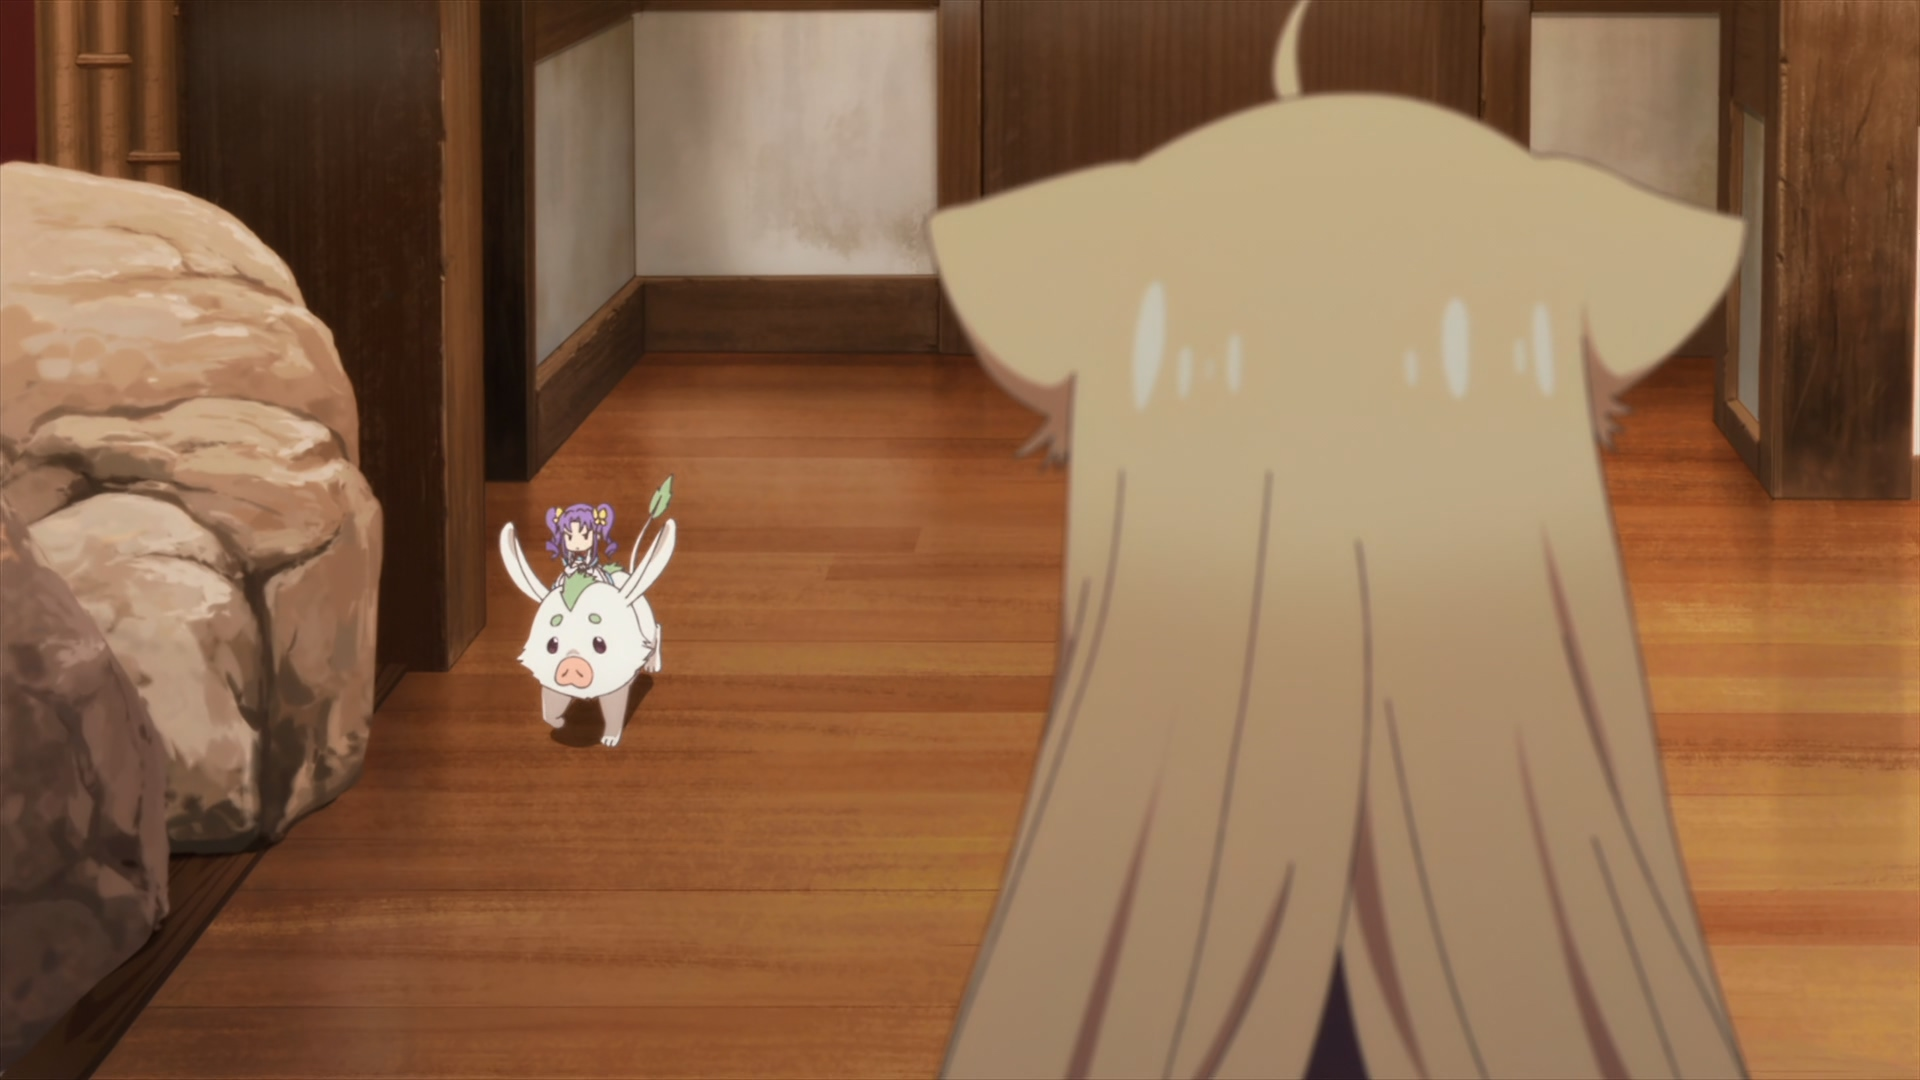柚: (928, 1, 1753, 1080)
瓜之介: (498, 475, 676, 746)
阿菊: (545, 504, 618, 589)
